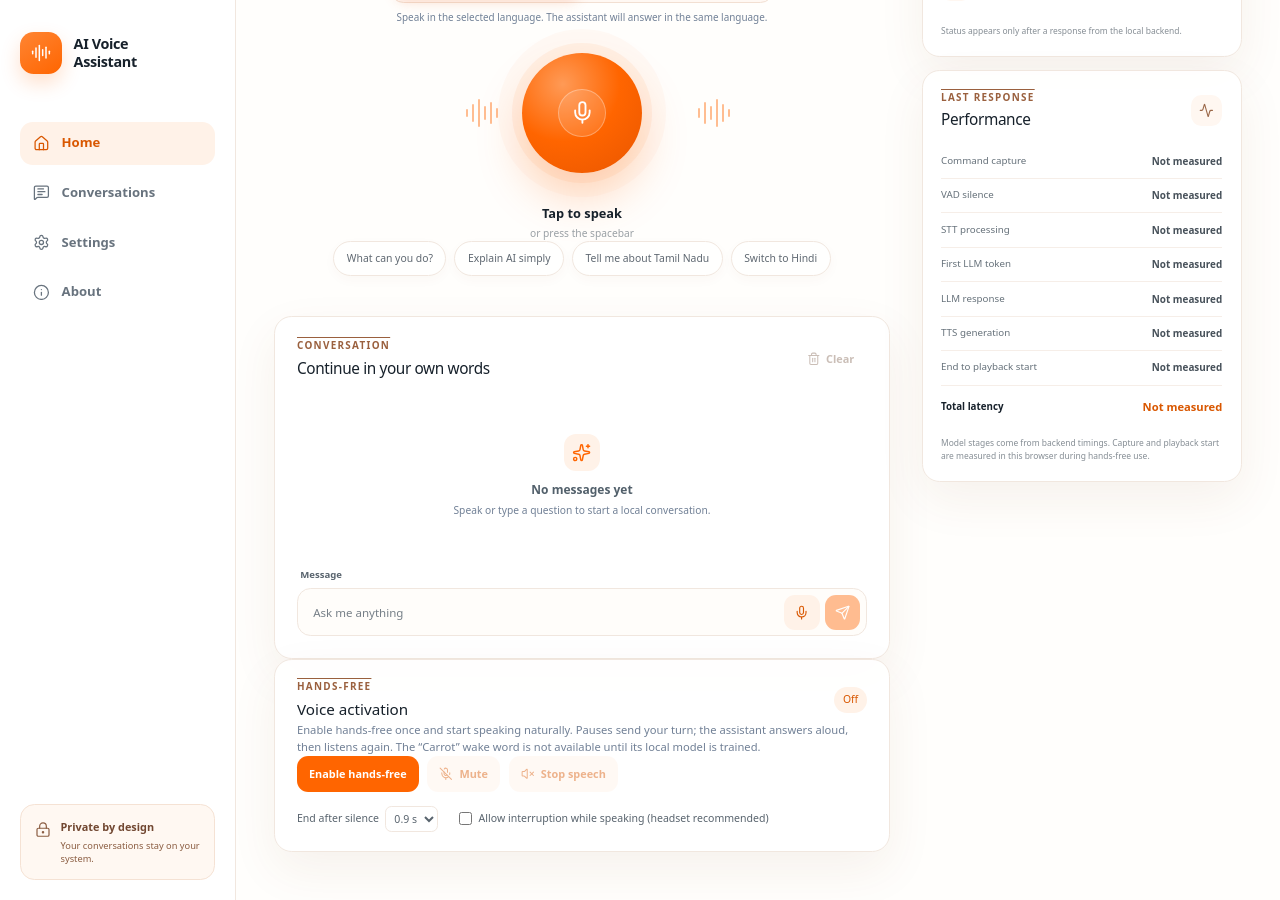
Test: AI Voice Assistant › shows an Ollama error and never fabricates a reply
(page scrolled)
Type "Hello" into the field labelled "Message" at (541, 612), box [304,595,779,630]
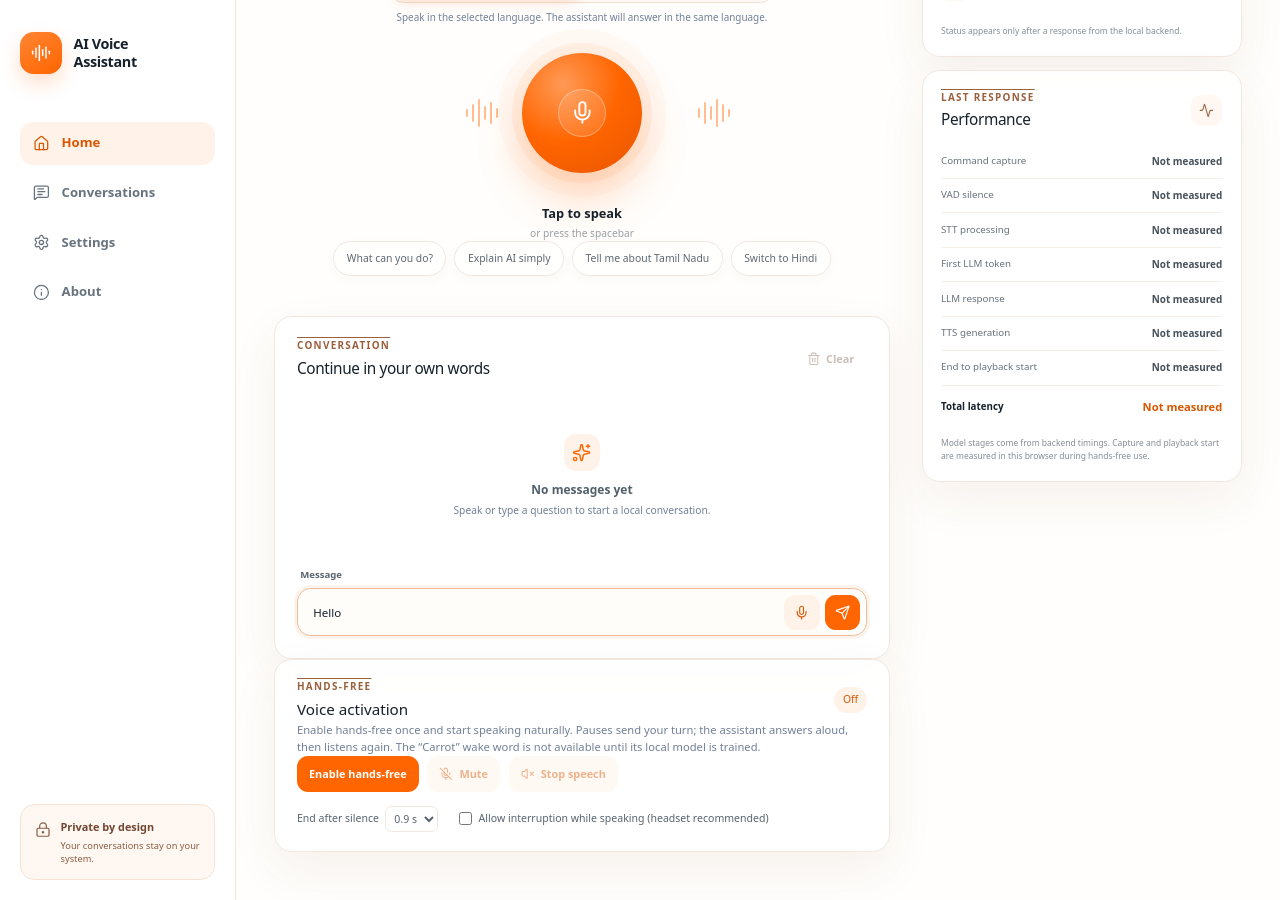
Click the button named "Send message" at (843, 612), box [825,595,860,630]
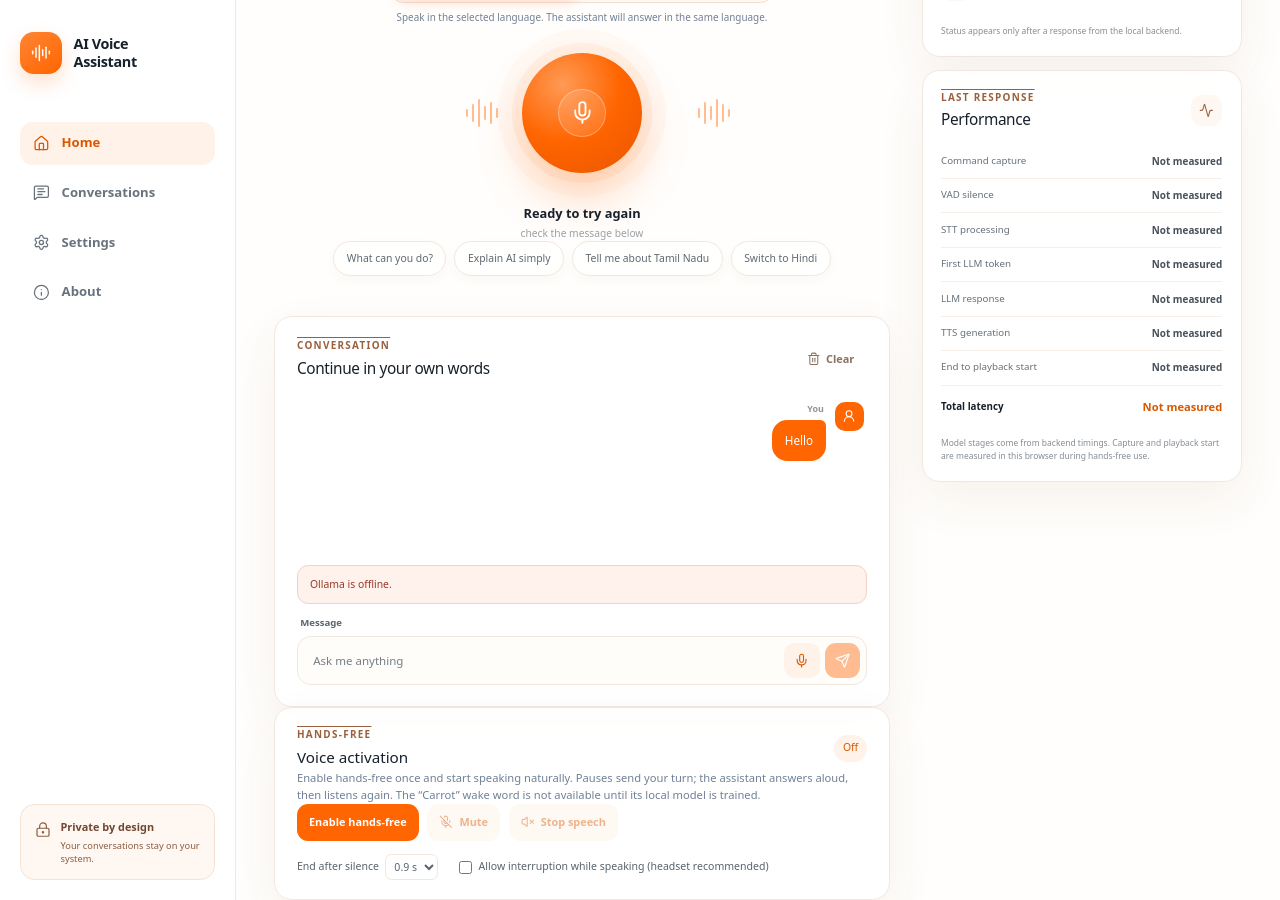
Expected: the message "Ollama is offline." is shown, [297,565,867,604]
